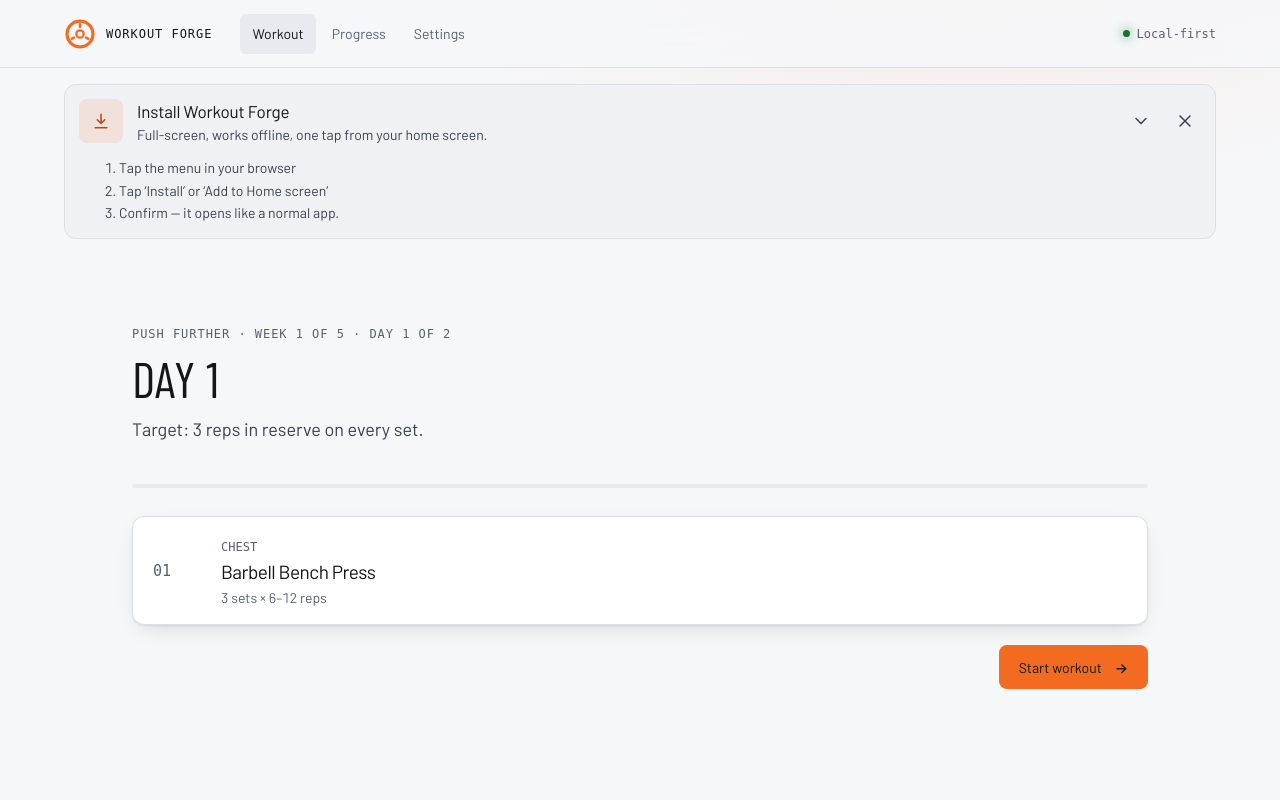
Test: install banner › stays away on Today after backing out of an unfinished session (stored full)
The width and height of the screenshot is (1280, 800).
Expected: the heading "Install Workout Forge" is shown, left=137, top=101, right=289, bottom=121
Click the button "Start workout →" at (1073, 667), box left=999, top=645, right=1148, bottom=689
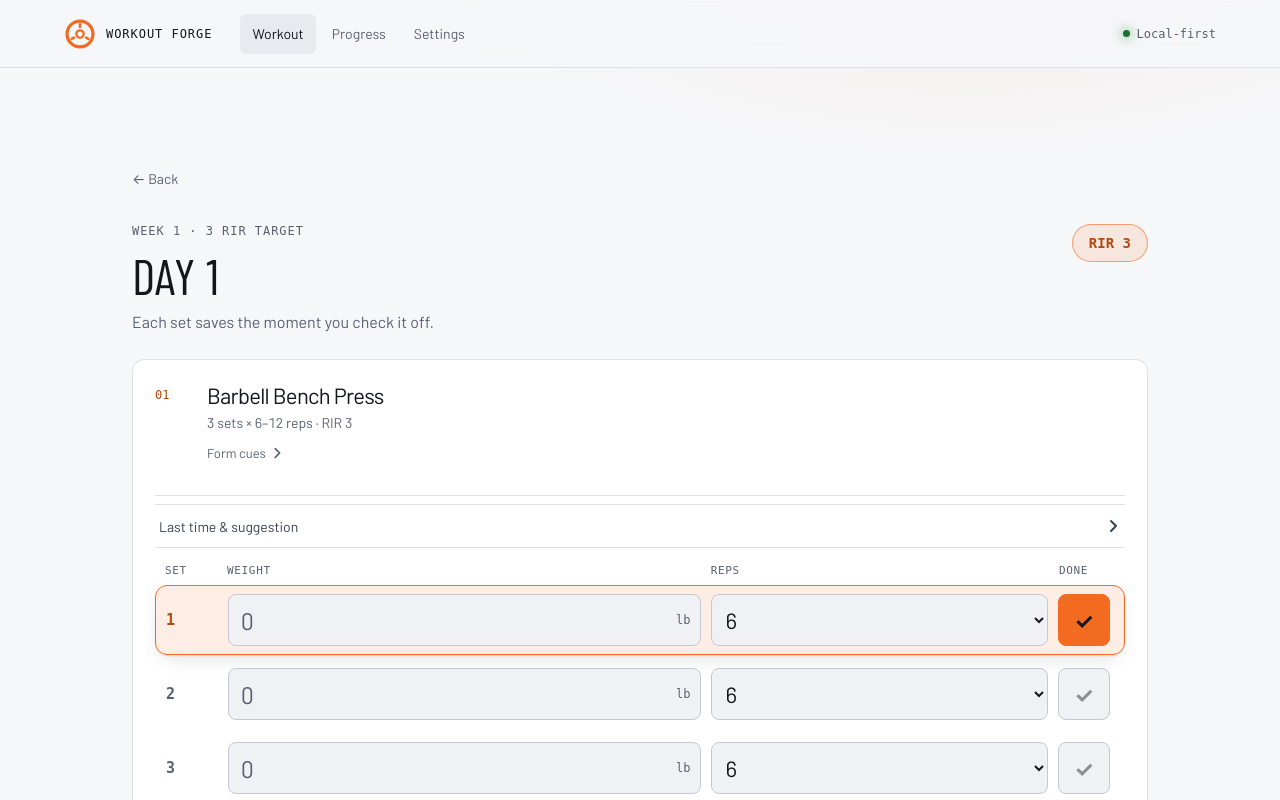
Click the button "← Back" at (155, 178), box left=132, top=156, right=178, bottom=200
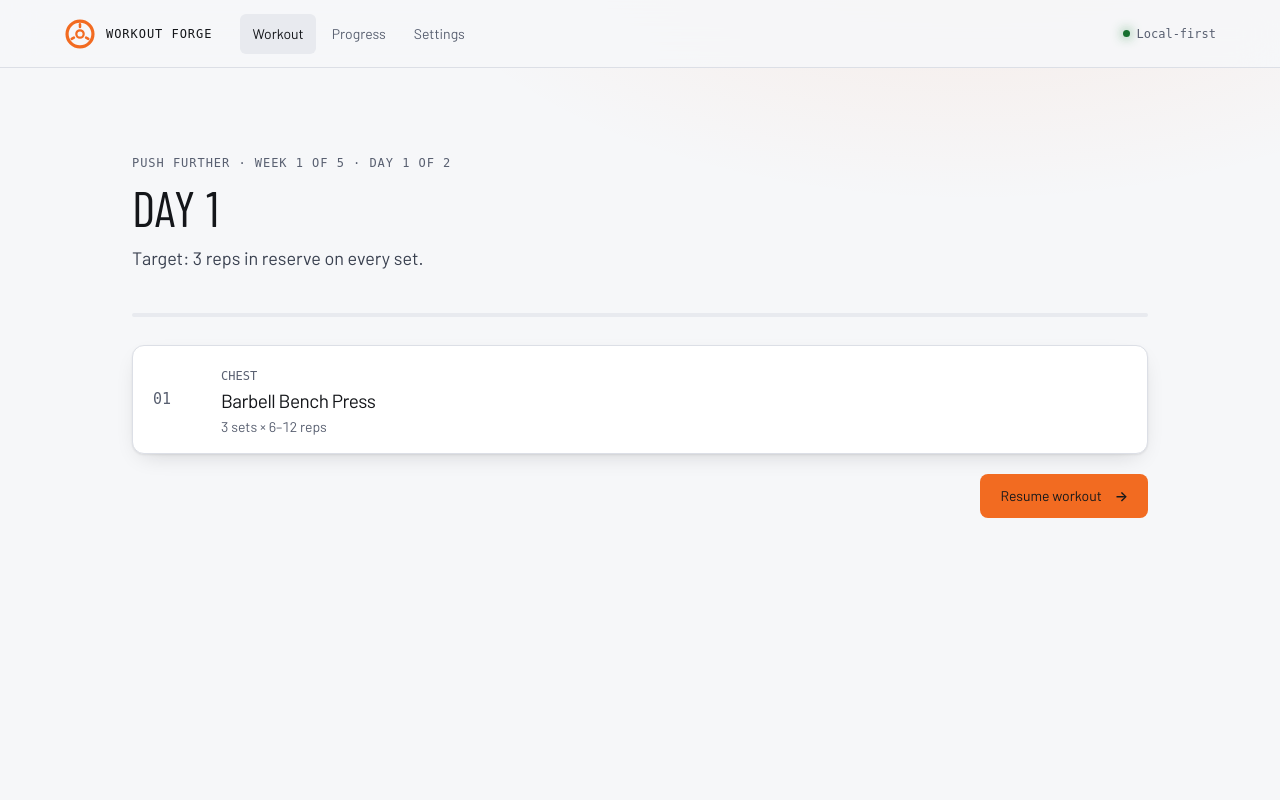
Expected: the heading "Install Workout Forge" is not shown
Expected: the button "Resume workout →" is shown, left=980, top=474, right=1148, bottom=518
